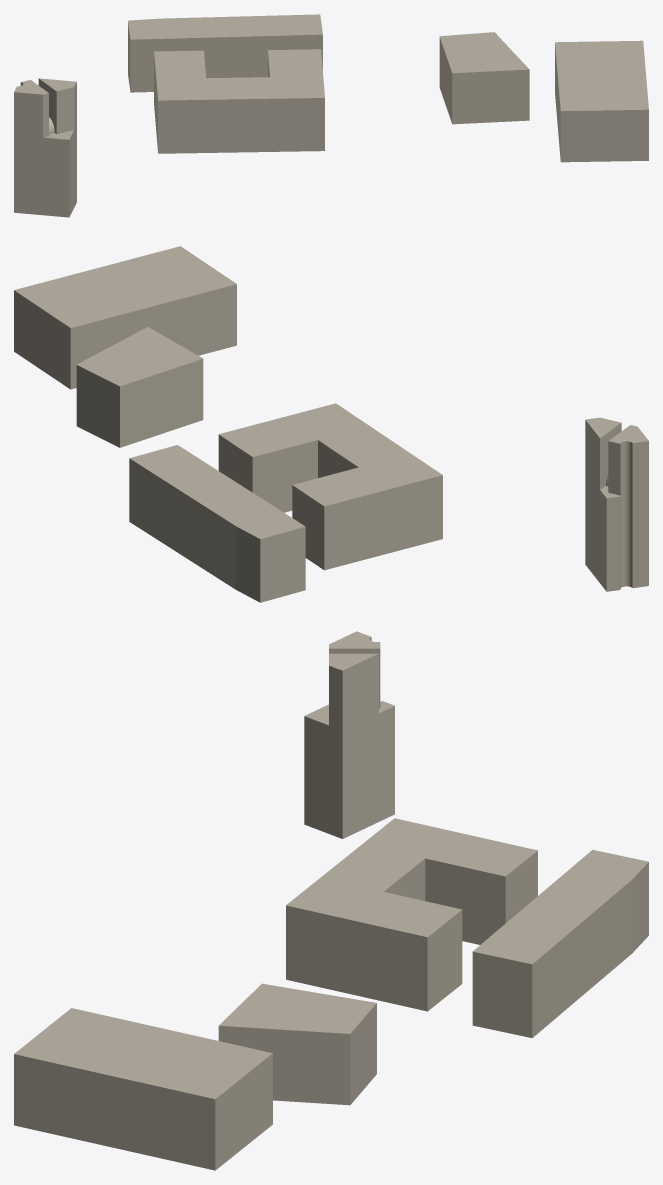
File: kalkara_65_21_far.glb
The picture shows the model from 3 angles, top to bottom: view 1: azimuth 30°, elevation 25°; view 2: azimuth 150°, elevation 25°; view 3: azimuth 270°, elevation 25°; orthographic projection. The views are drawn at different scales.
Parts seen in each view (by area): view 1: geometry_0; view 2: geometry_0; view 3: geometry_0.
Boxes of the visible parts, x1,y1,x2,y2 form: geometry_0: (14,14,648,217); geometry_0: (14,246,648,602); geometry_0: (14,631,648,1170).
Bounding box in the file's own units: 127 × 25.31 × 86.51.
